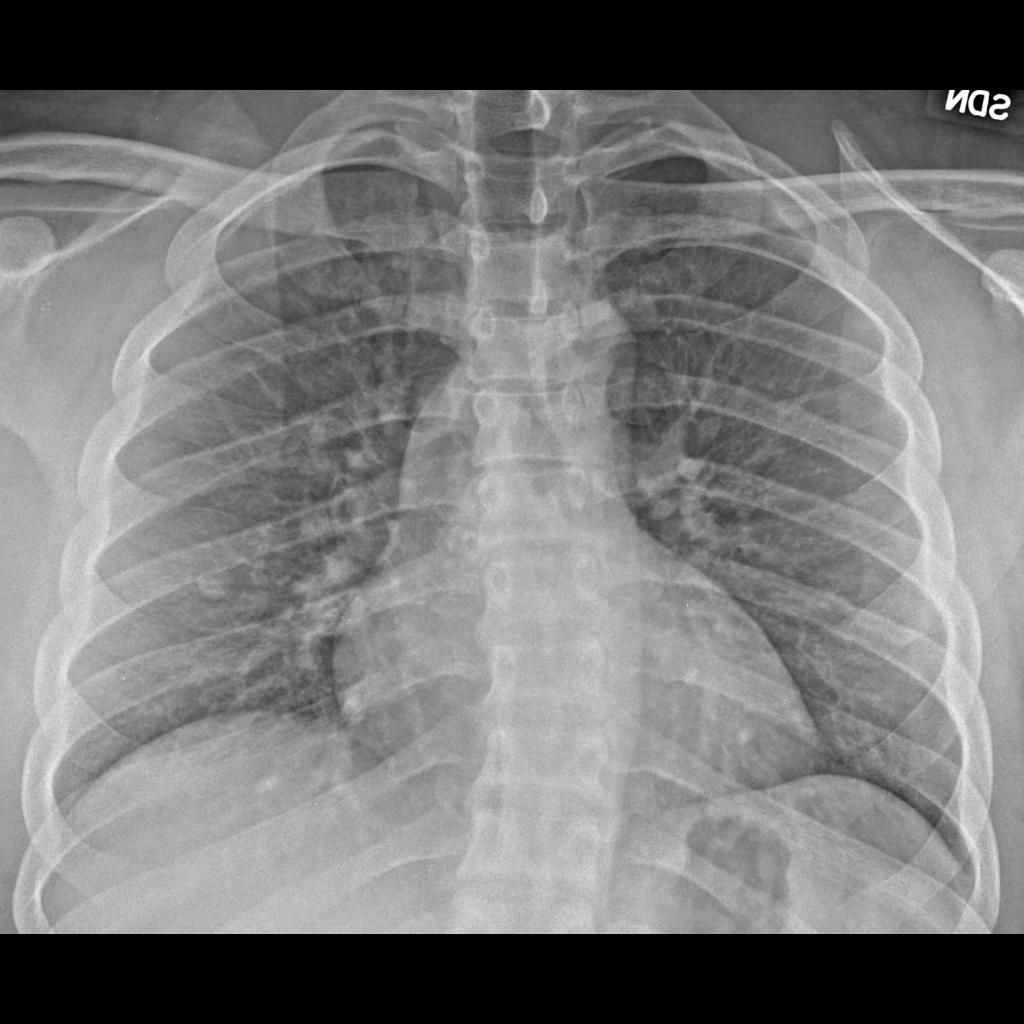Nodule: (189, 563, 241, 616)
